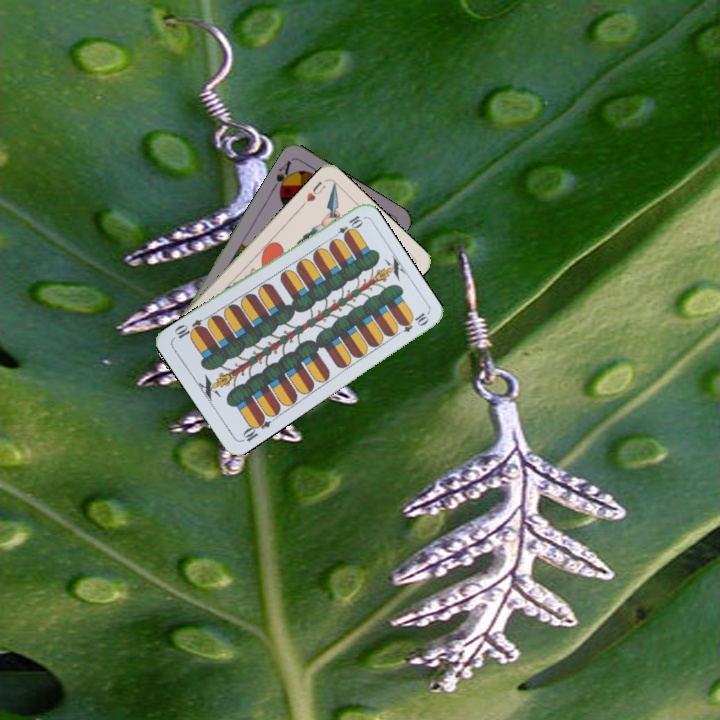E10: (237, 412, 273, 444), (328, 211, 365, 242)
HU: (297, 177, 328, 210)
SA: (268, 156, 296, 196)
